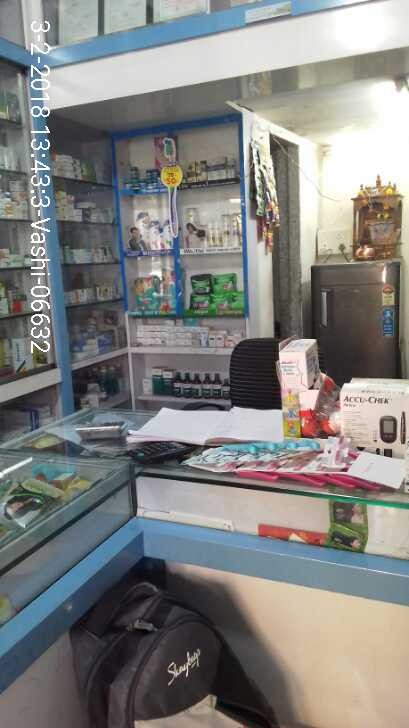beauty: (228, 212, 241, 245), (146, 221, 157, 251), (183, 160, 196, 184), (220, 212, 228, 248), (163, 222, 174, 248)
pharmacy: (133, 276, 160, 310), (210, 272, 237, 294), (189, 271, 213, 295), (207, 294, 243, 310), (189, 294, 210, 310), (146, 168, 158, 181), (129, 167, 140, 179)
